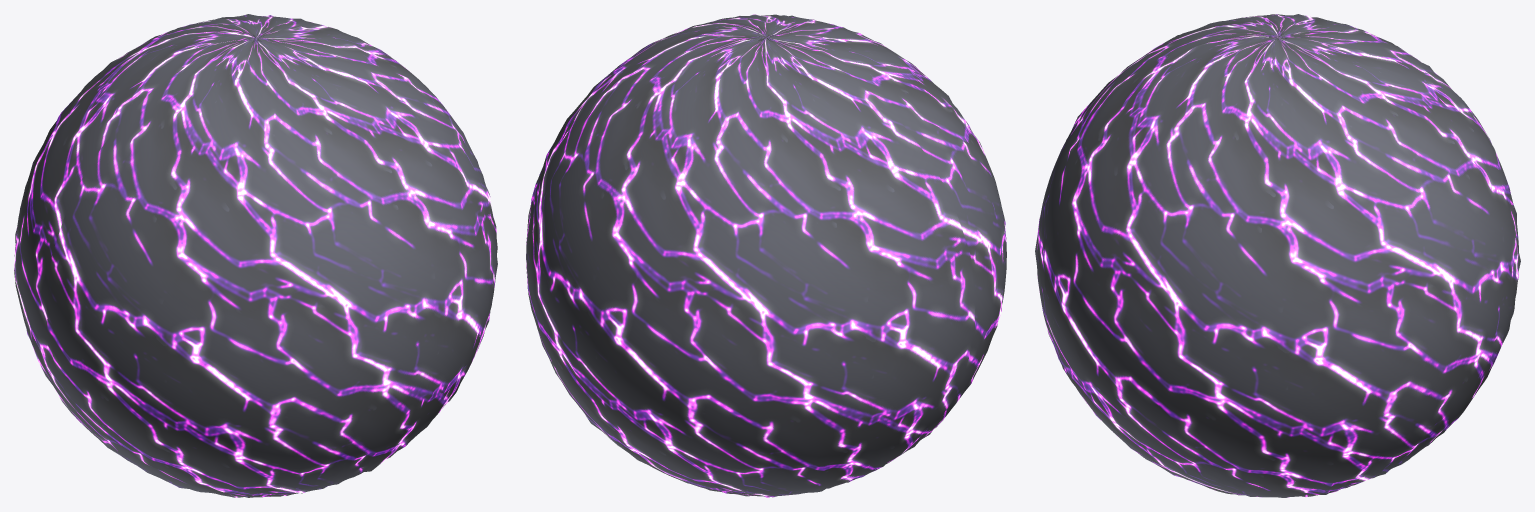
Rendered from stylized_glowing_rock.glb.
The picture shows the model from 3 angles, left to right: view 1: azimuth 30°, elevation 25°; view 2: azimuth 150°, elevation 25°; view 3: azimuth 270°, elevation 25°; orthographic projection.
Visible parts, largest first — view 1: Mesh_1__0; view 2: Mesh_1__0; view 3: Mesh_1__0.
Boxes of the visible parts, bbox=[...] form: Mesh_1__0: bbox=[14, 14, 497, 497]; Mesh_1__0: bbox=[526, 14, 1006, 497]; Mesh_1__0: bbox=[1035, 14, 1520, 497].
Size of the model in its own units: 0.9926 by 0.9976 by 0.9976.
1 material, 1 textured.
